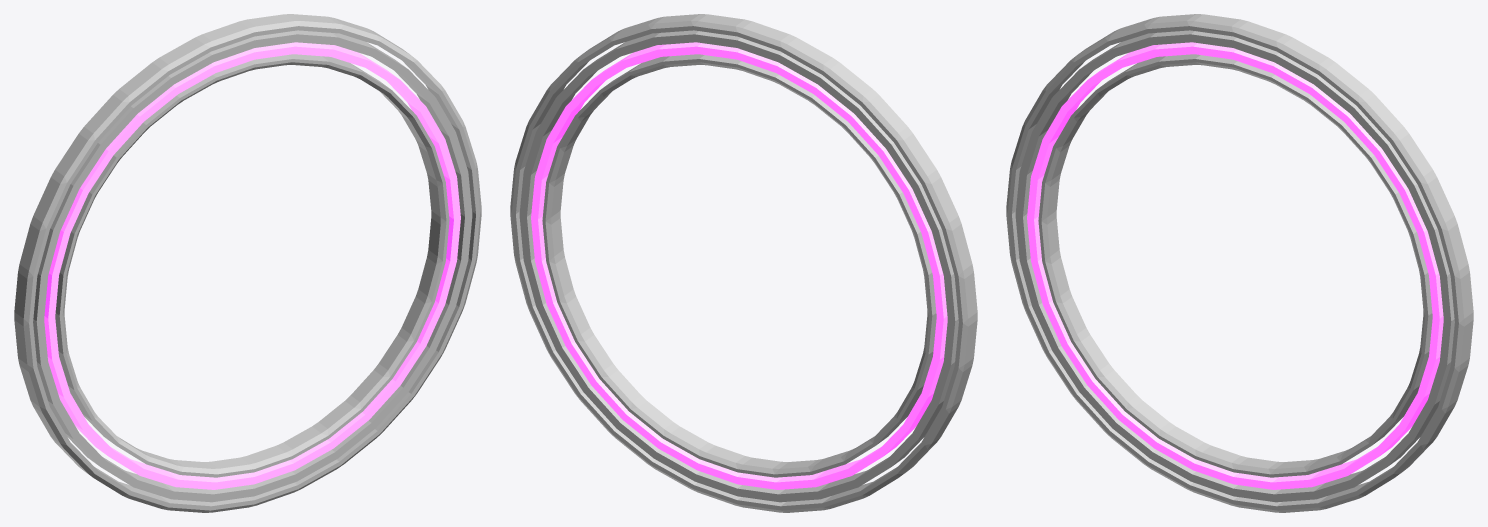
File: ring_threejs_audio_controller.fbx
3 renders of one model, left to right at view 1: azimuth 30°, elevation 25°; view 2: azimuth 150°, elevation 25°; view 3: azimuth 330°, elevation 25°, orthographic.
Parts seen in each view (by area): view 1: outer, inner, mid_outer, mid_inner; view 2: outer, inner, mid_outer, mid_inner; view 3: outer, inner, mid_outer, mid_inner.
Part boxes in pixels (<box>): outer: <box>14,14,481,512</box>; inner: <box>55,54,449,477</box>; mid_outer: <box>33,30,472,502</box>; mid_inner: <box>44,42,460,489</box>; outer: <box>510,14,977,512</box>; inner: <box>542,54,936,477</box>; mid_outer: <box>519,30,958,502</box>; mid_inner: <box>531,42,947,489</box>; outer: <box>1006,14,1473,512</box>; inner: <box>1038,54,1432,477</box>; mid_outer: <box>1015,30,1454,502</box>; mid_inner: <box>1027,42,1443,489</box>.
Bounding box in the file's own units: 200 × 200 × 10.
